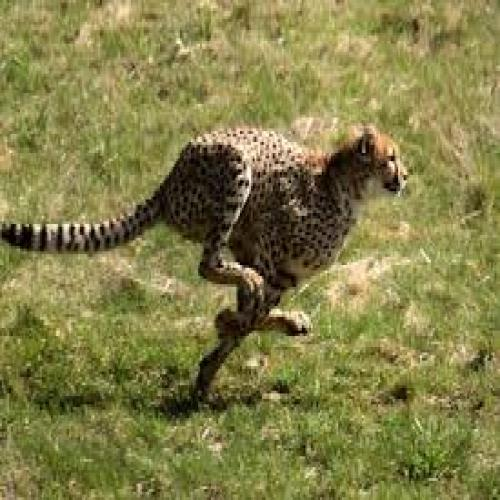cheetah-endangered: (0, 121, 411, 376)
